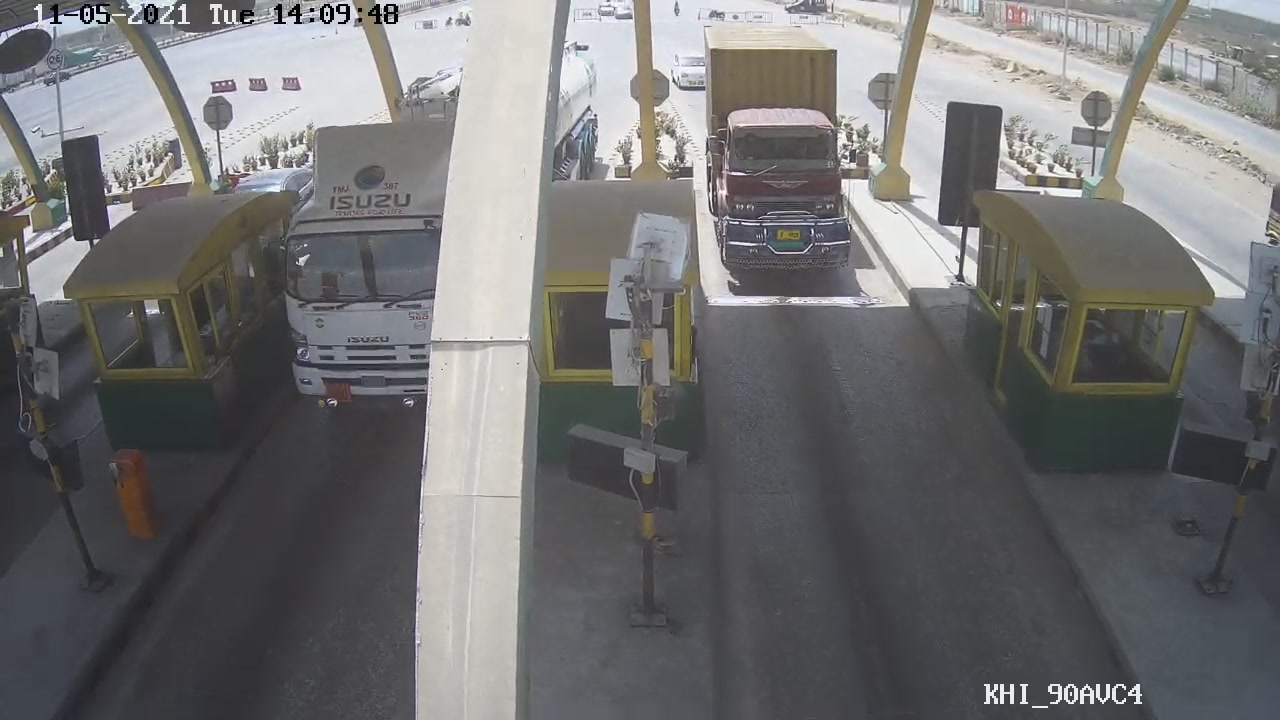F6: (694, 21, 854, 274)
